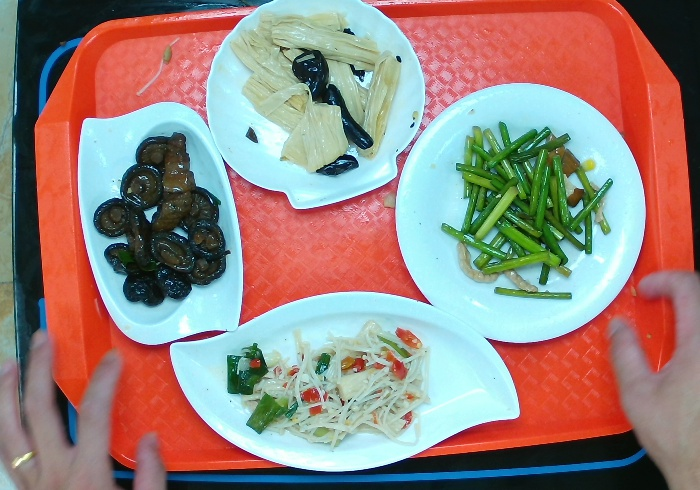RJxy-Bei_Ke_Wan: (196, 3, 430, 217)
RJxy-Jian_Jiao_Fang_Die: (72, 95, 248, 352)
RJxy-Jian_Jiao_Pan: (159, 286, 529, 475)
RJxy-Yuan_Pan: (391, 77, 651, 345)
